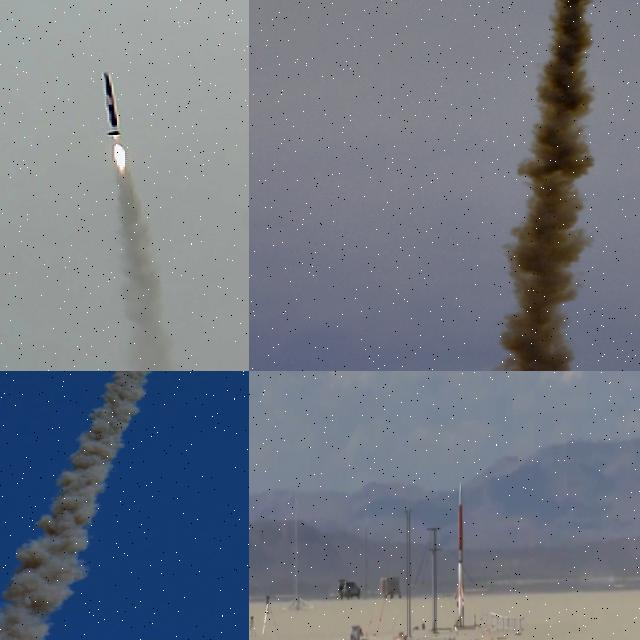Rocket: (102, 68, 123, 138), (456, 480, 465, 618)
